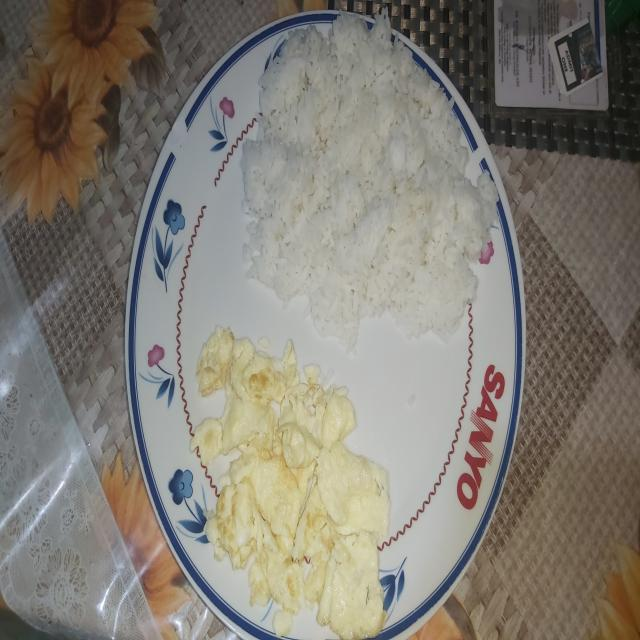Chicken -Chicken Inasal-: (242, 7, 490, 334)
